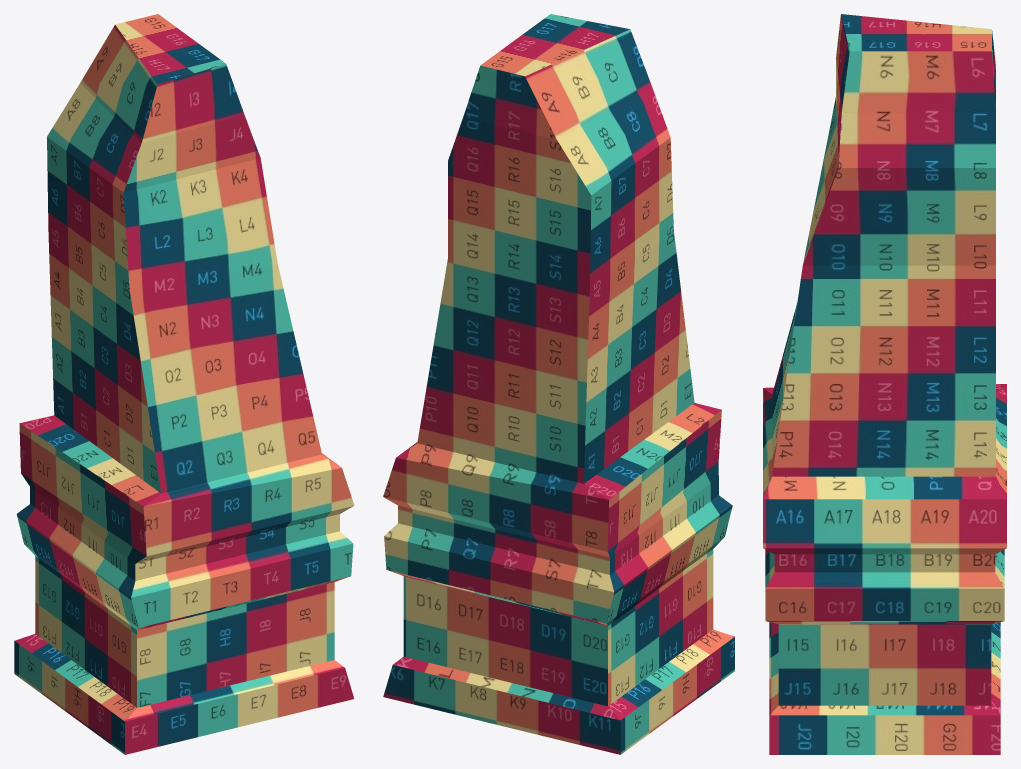
The model's file is Piliier_03_low.FBX.
3 views of the same model, side by side, from view 1: azimuth 30°, elevation 25°; view 2: azimuth 150°, elevation 25°; view 3: azimuth 270°, elevation 25° (orthographic). The views are drawn at different scales.
Parts seen in each view (by area): view 1: Pilier_003; view 2: Pilier_003; view 3: Pilier_003.
Part boxes in pixels (left/top/right/bottom): Pilier_003: left=14, top=14, right=354, bottom=754; Pilier_003: left=383, top=14, right=734, bottom=754; Pilier_003: left=763, top=14, right=1006, bottom=754.
Size of the model in its own units: 1.57 by 4.13 by 1.39.
